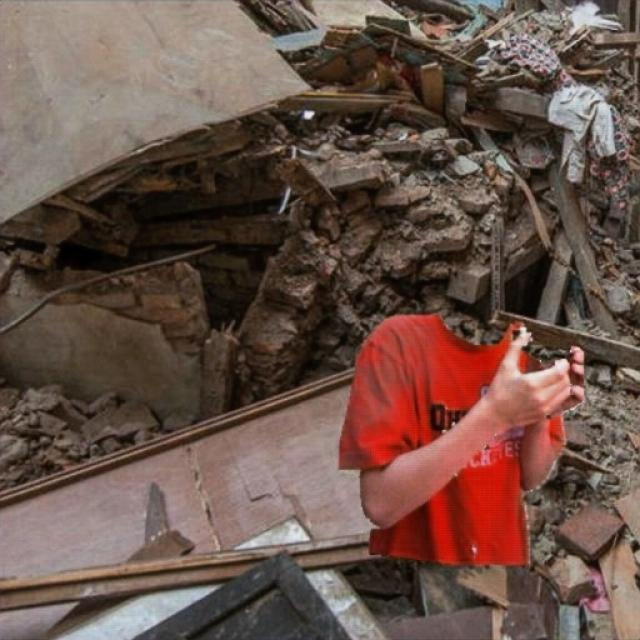Person in Rubble: (338, 315, 582, 564)
